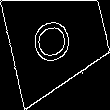O_E: (33, 14, 83, 68)
